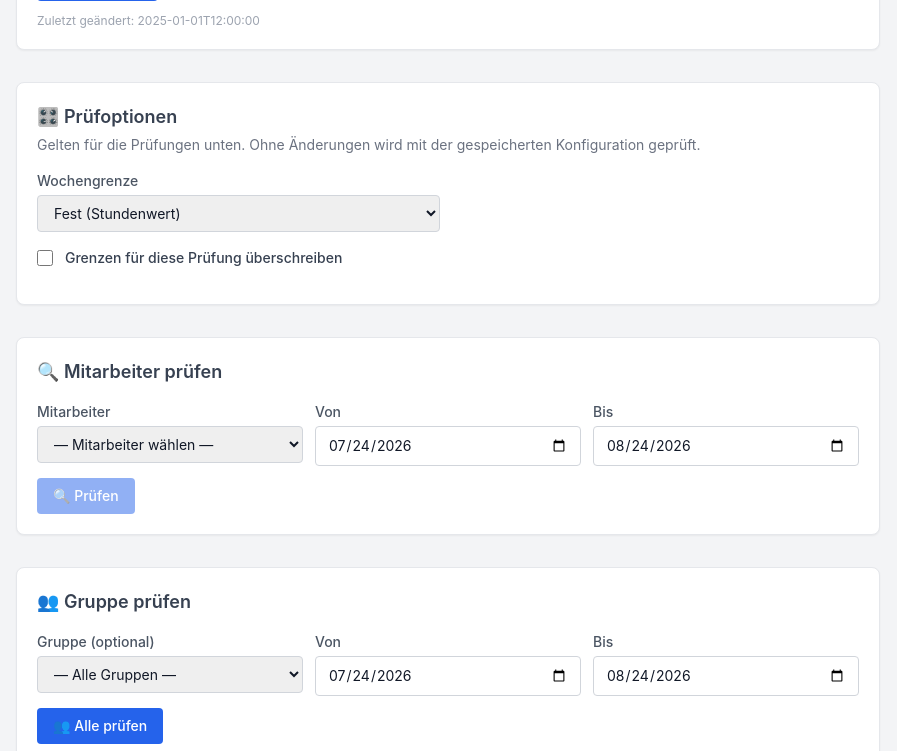
Test: WorkTimeRules page › shows green OK message when no violations
This screenshot has width=897, height=751.
(page scrolled)
Select "Muster Max (MM)" in the dropdown named "Mitarbeiter auswählen". click: (170, 444)
box: x1=37 y1=426 x2=303 y2=463
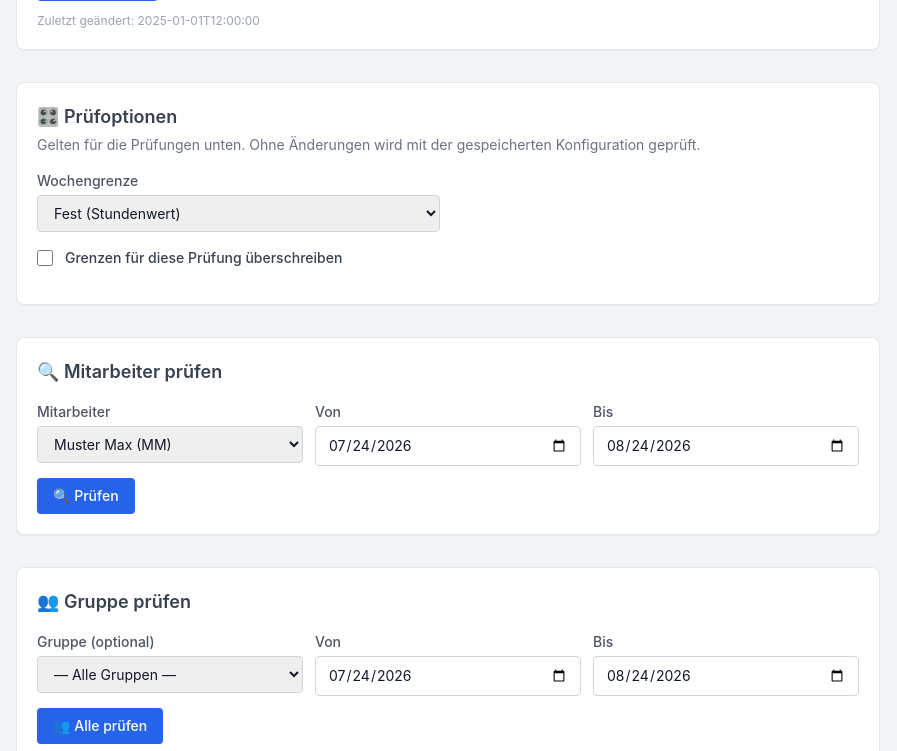
Click the button with aria-label "Mitarbeiter prüfen". click: (86, 496)
box: x1=37 y1=478 x2=135 y2=514
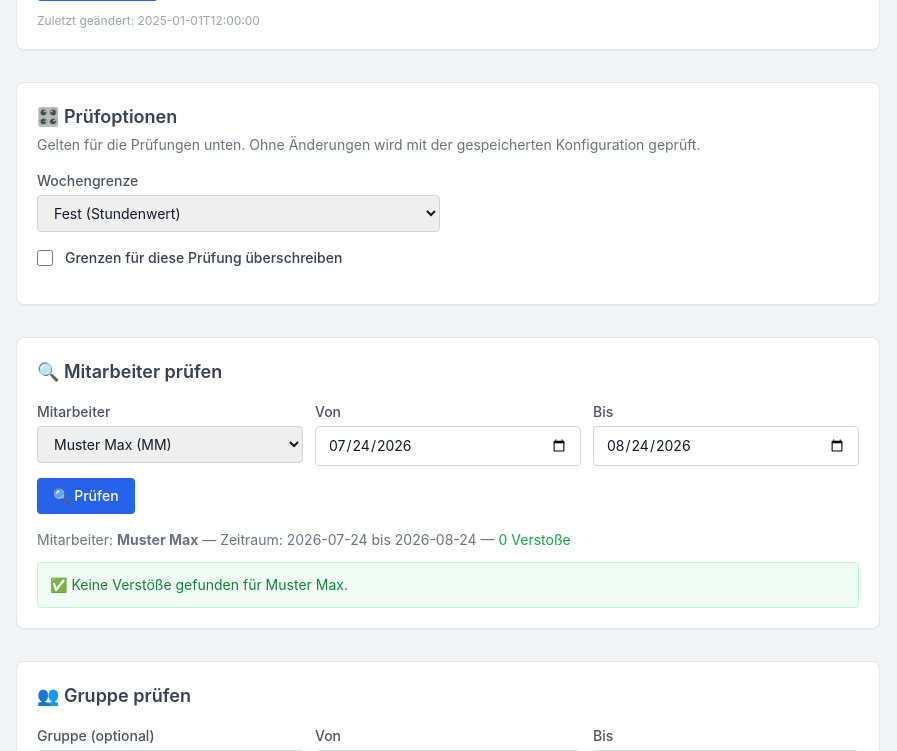
Check: the text "✅ Keine Verstöße gefunden für Muster Max." is shown, box x1=37 y1=562 x2=859 y2=608
